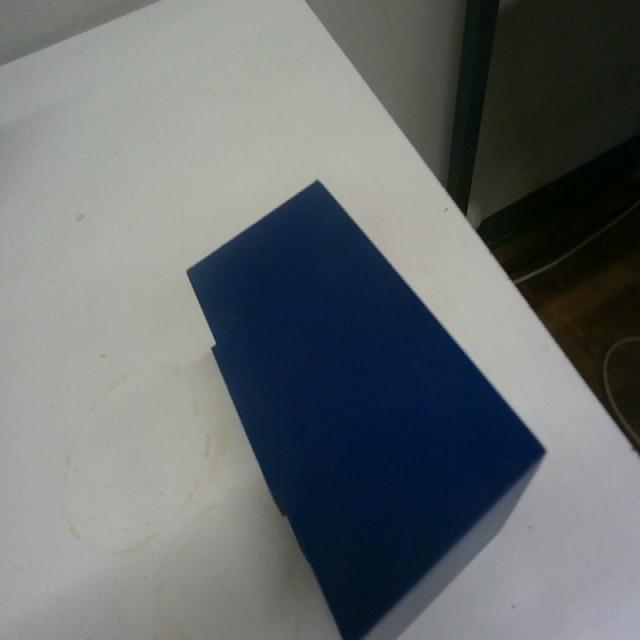Blue Cuboid: (184, 175, 548, 637)
